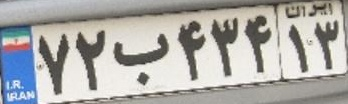character: (112, 23, 173, 86), (74, 23, 111, 94), (38, 28, 73, 97), (208, 12, 243, 79), (240, 12, 276, 76), (175, 17, 208, 81), (312, 17, 342, 71), (286, 21, 313, 75)
